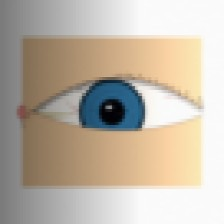pterygium_lesion: (21, 88, 82, 136)
